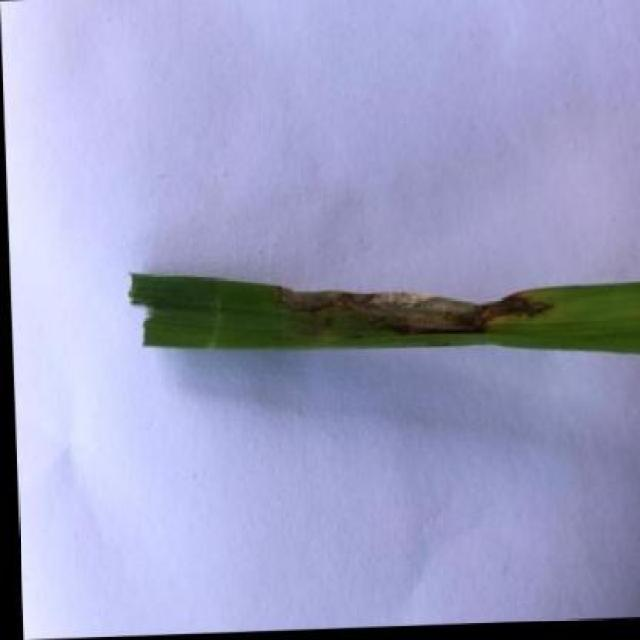Brown_Spot: (106, 248, 640, 377)
